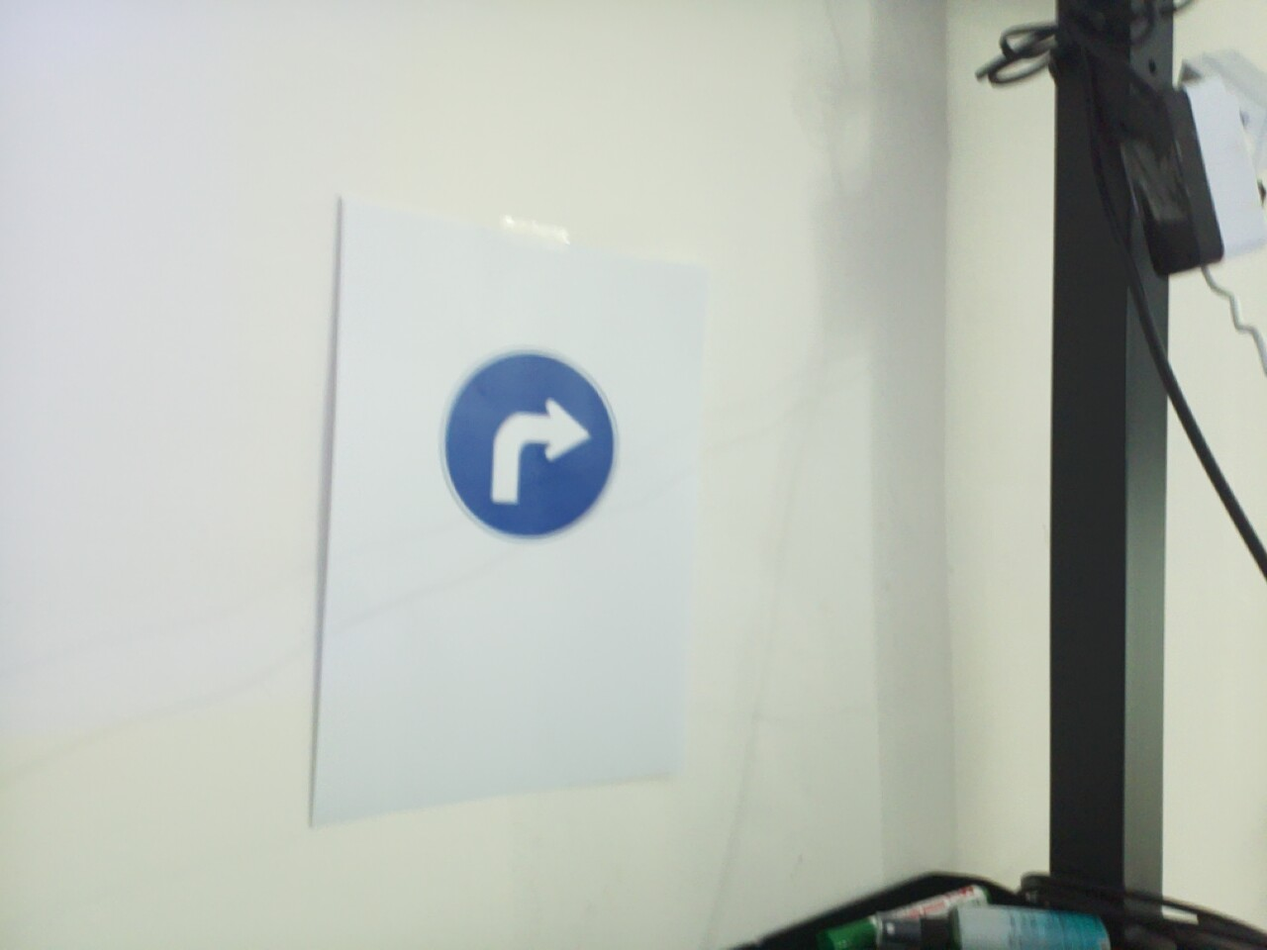right_turn: (1155, 0, 1267, 950)
